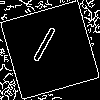I: (25, 25, 59, 72)
